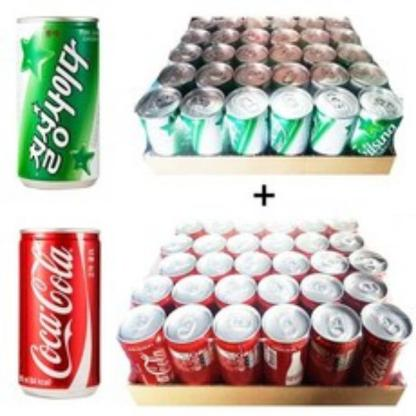Can: (14, 17, 108, 191), (17, 223, 103, 399)
